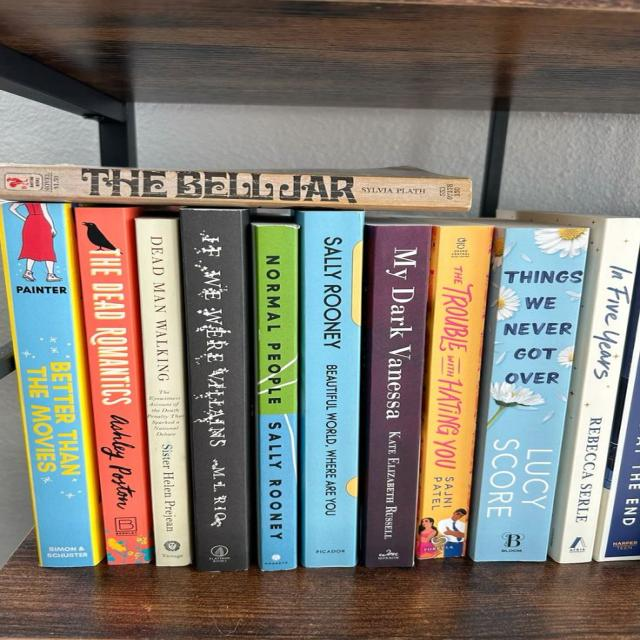book: (469, 227, 588, 561), (0, 201, 104, 567), (550, 219, 639, 563), (75, 206, 152, 565), (416, 226, 492, 559), (296, 211, 363, 568), (361, 226, 430, 567), (0, 164, 471, 211), (136, 219, 191, 566), (251, 216, 299, 571)
